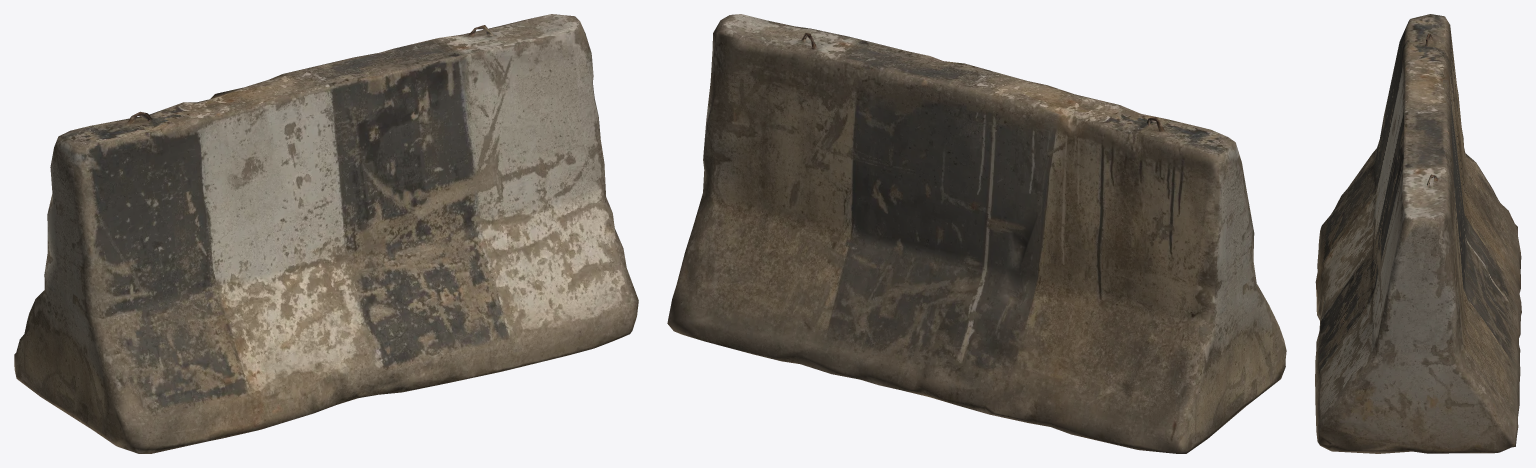
Rendered from concrete_road_barrier.glb.
3 views of the same model, side by side, from view 1: azimuth 30°, elevation 25°; view 2: azimuth 150°, elevation 25°; view 3: azimuth 270°, elevation 25° (orthographic). The views are drawn at different scales.
Visible parts, largest first — view 1: concrete_road_barrier; view 2: concrete_road_barrier; view 3: concrete_road_barrier.
Boxes of the visible parts, x1,y1,x2,y2 form: concrete_road_barrier: [14, 14, 638, 453]; concrete_road_barrier: [667, 14, 1286, 453]; concrete_road_barrier: [1315, 14, 1521, 453].
Size of the model in its own units: 1.54 by 0.8239 by 0.6333.
Materials: 1 (1 with a texture image).
